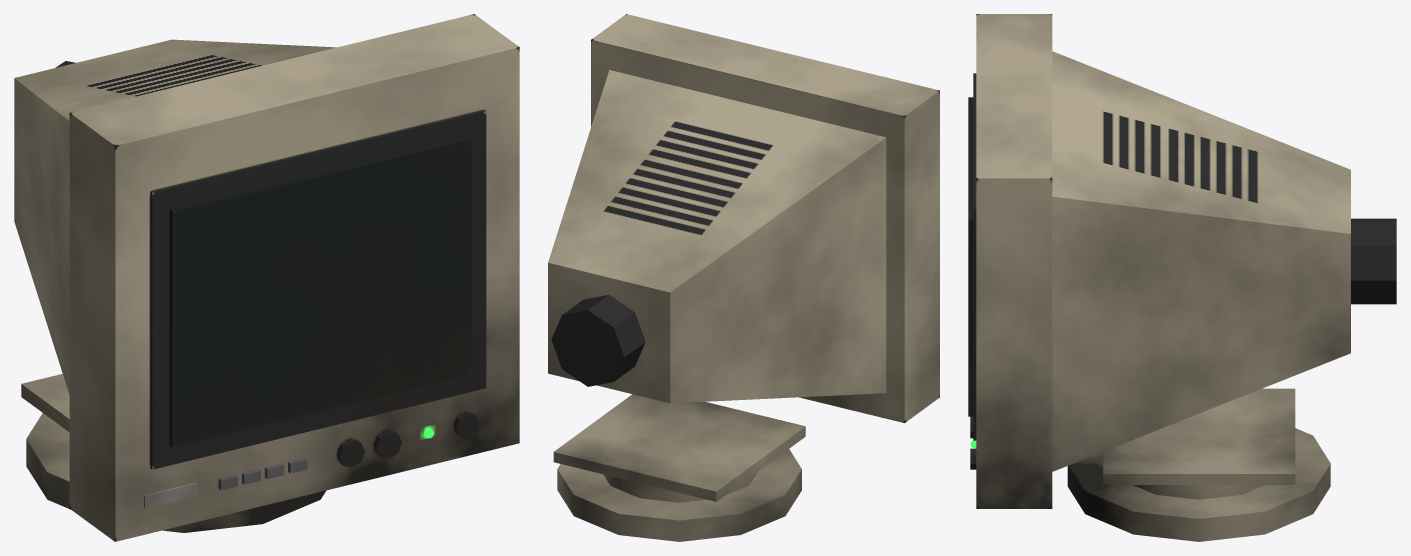
Rendered from CRT_Monitor_low.fbx.
The picture shows the model from 3 angles, left to right: view 1: azimuth 30°, elevation 25°; view 2: azimuth 150°, elevation 25°; view 3: azimuth 270°, elevation 25°; orthographic projection. The views are drawn at different scales.
Visible parts, largest first — view 1: CRT_Monitor_low; view 2: CRT_Monitor_low; view 3: CRT_Monitor_low.
Part boxes in pixels (<box>): CRT_Monitor_low: <box>14,14,519,541</box>; CRT_Monitor_low: <box>548,14,939,541</box>; CRT_Monitor_low: <box>968,14,1396,541</box>.
Bounding box in the file's own units: 0.385 × 0.425 × 0.423.
Materials: 1 (1 with a texture image).
